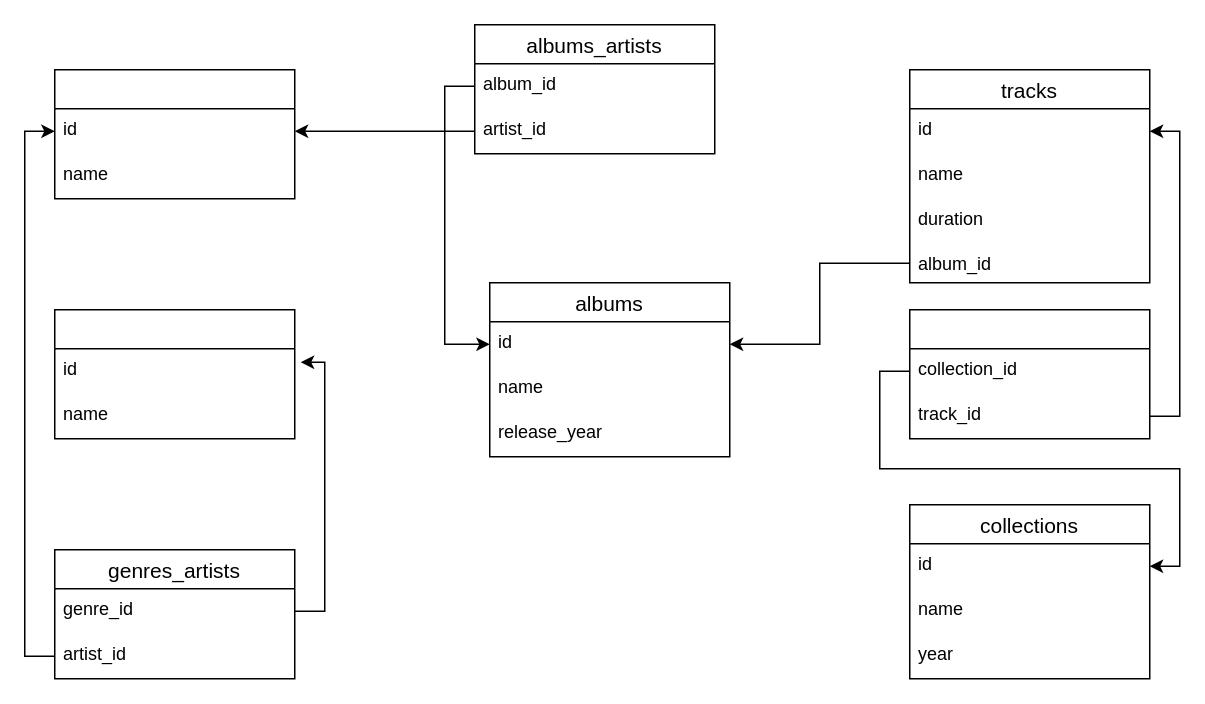
This 1205x704 diagram has some shape labels left out. The box of each missing label's shape, as (x1, y1, x2, y2) in pixels:
artists: (53, 68, 295, 199)
collections_tracks: (908, 308, 1150, 439)
genres: (53, 308, 295, 439)
